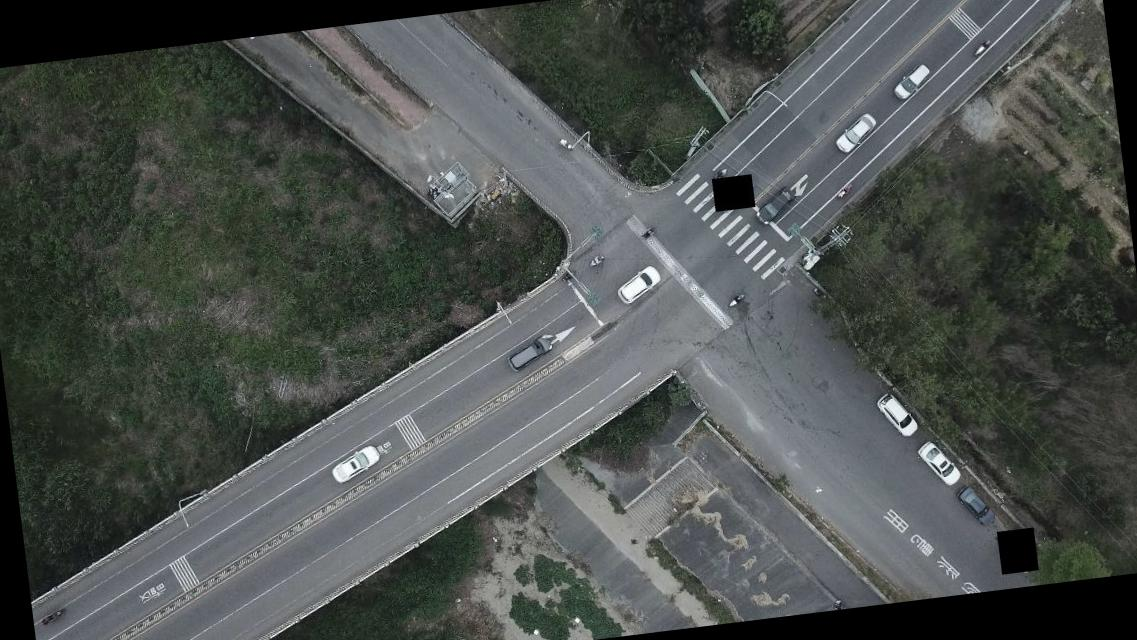vehicle: (916, 436, 963, 489), (874, 388, 920, 441), (751, 180, 800, 228), (612, 261, 664, 306), (328, 439, 382, 482), (954, 481, 1000, 530), (832, 110, 880, 153), (502, 334, 554, 371), (888, 62, 933, 102)
